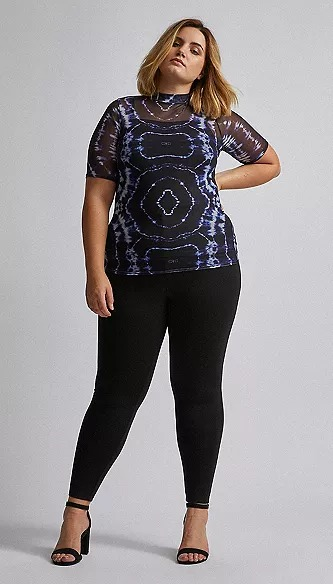C_W_pants: (66, 269, 242, 503)
C_short blouse: (80, 96, 274, 273)
